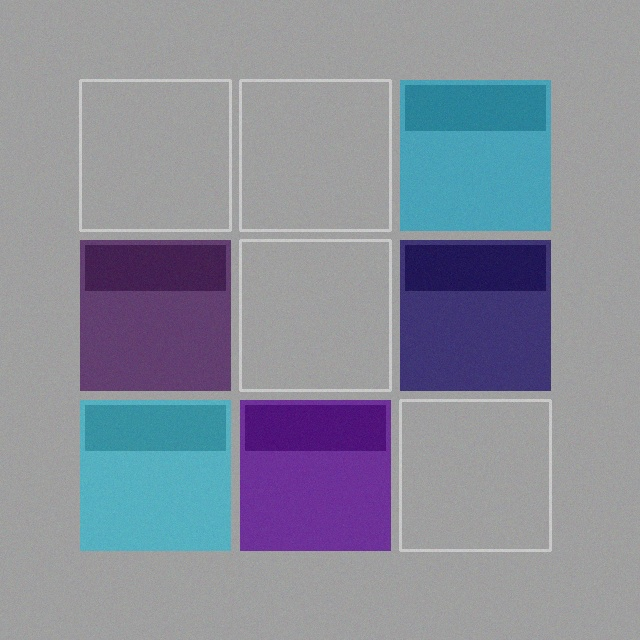space-empty: (80, 80, 230, 230), (240, 80, 390, 230), (240, 240, 390, 390), (400, 400, 550, 550)
space-occupied: (400, 80, 550, 230), (80, 240, 230, 390), (400, 240, 550, 390), (80, 400, 230, 550), (240, 400, 390, 550)
